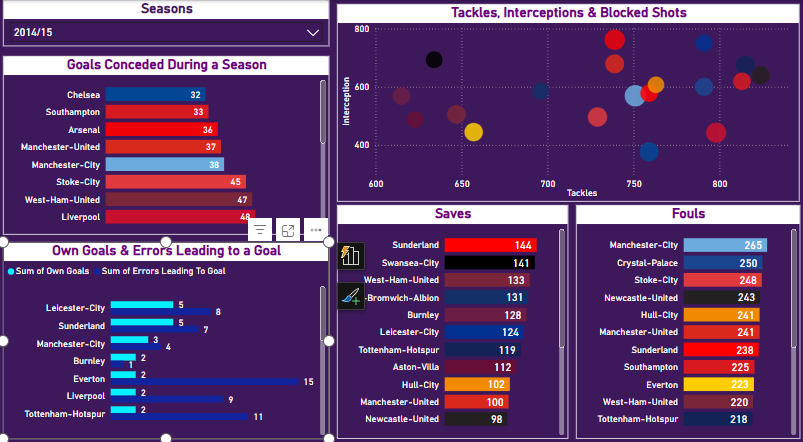

This screenshot's page, from the dashboard's own definition file:
{"tool":"powerbi","page":{"name":"Defense","canvas":[1280,720],"ordinal":3},"visuals":[{"type":"slicer","title":"Seasons","fields":{"Values":["Premier League Seasons.Season"]},"box":[9,0,515.4,73.2],"z":0},{"type":"clusteredBarChart","title":"Goals Conceded During a Season","fields":{"Category":["Overview [2024-05-21].Team Name"],"Y":["Sum(Normalized Defence [2024-05-21].Goal Conceded)"]},"box":[9,88.1,515.4,282.3],"z":1000},{"type":"clusteredBarChart","title":"Own Goals & Errors Leading to a Goal","fields":{"Category":["Overview [2024-05-21].Team Name"],"Y":["Sum(Normalized Defence [2024-05-21].Own Goals)","Sum(Normalized Defence [2024-05-21].Errors Leading To Goal)"]},"box":[9.5,381.9,514.5,310.9],"z":2000},{"type":"scatterChart","title":"Tackles, Interceptions & Blocked Shots","fields":{"Category":["Overview [2024-05-21].Team Name"],"X":["Sum(Normalized Defence [2024-05-21].Tackle)"],"Y":["Sum(Normalized Defence [2024-05-21].Interceptions)"],"Size":["Sum(Normalized Defence [2024-05-21].Blocked Shots)"]},"box":[536.3,6,730.5,312.2],"z":3000},{"type":"clusteredBarChart","title":"Saves","fields":{"Category":["Overview [2024-05-21].Team Name"],"Y":["Sum(Normalized Defence [2024-05-21].Saves)"]},"box":[536.6,323.6,364.6,369.3],"z":4000},{"type":"clusteredBarChart","title":"Fouls","fields":{"Category":["Overview [2024-05-21].Team Name"],"Y":["Sum(Discipline [2024-05-21].Fouls)"]},"box":[913.8,323.6,353.5,369.3],"z":5000}]}

Visuals, with their boxes in screenshot pixels (x1, y1, x2, y2), scaled from the page's 1280x720 canvas onto the 803x442 screenshot:
"Seasons" slicer: region(6, 0, 329, 45)
"Goals Conceded During a Season" clusteredBarChart: region(6, 54, 329, 227)
"Own Goals & Errors Leading to a Goal" clusteredBarChart: region(6, 234, 329, 425)
"Tackles, Interceptions & Blocked Shots" scatterChart: region(336, 4, 795, 195)
"Saves" clusteredBarChart: region(337, 199, 565, 425)
"Fouls" clusteredBarChart: region(573, 199, 795, 425)
